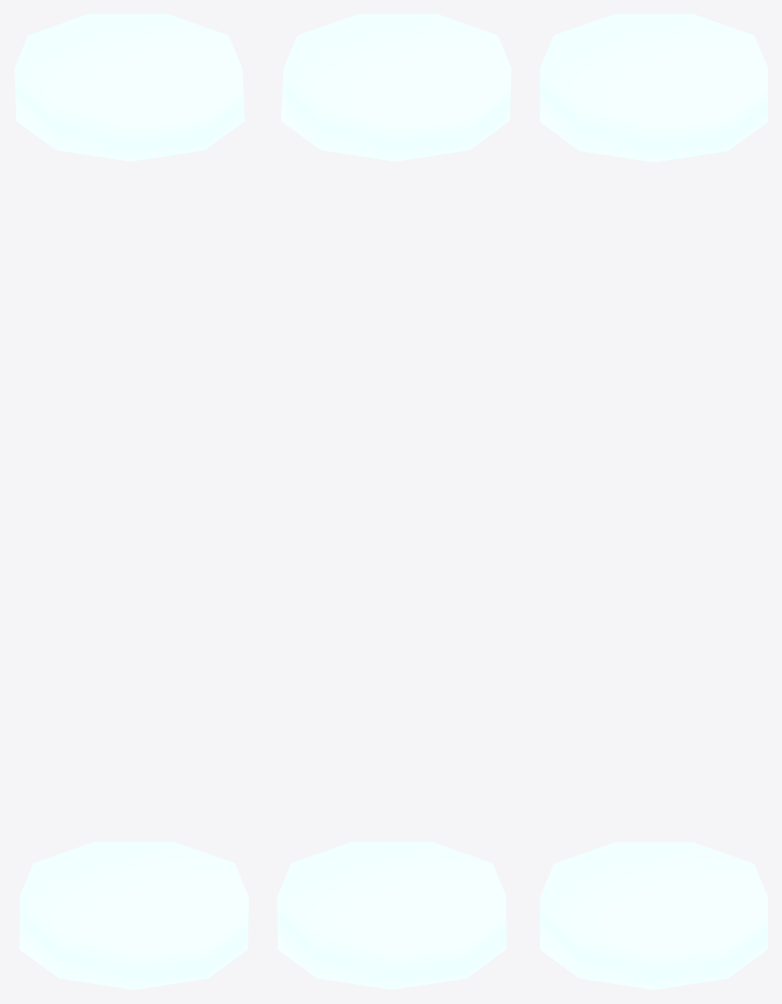
The picture shows the model from 3 angles, left to right: view 1: azimuth 30°, elevation 25°; view 2: azimuth 150°, elevation 25°; view 3: azimuth 270°, elevation 25°; orthographic projection.
Visible parts, largest first — view 1: SM_LongGrass_04_LOD0; view 2: SM_LongGrass_04_LOD0; view 3: SM_LongGrass_04_LOD0.
Boxes of the visible parts, x1=… form: SM_LongGrass_04_LOD0: x1=14, y1=14, x2=248, y2=989; SM_LongGrass_04_LOD0: x1=277, y1=14, x2=511, y2=989; SM_LongGrass_04_LOD0: x1=540, y1=14, x2=767, y2=989.
Bounding box in the file's own units: 0.0558 × 0.2345 × 0.0551.
